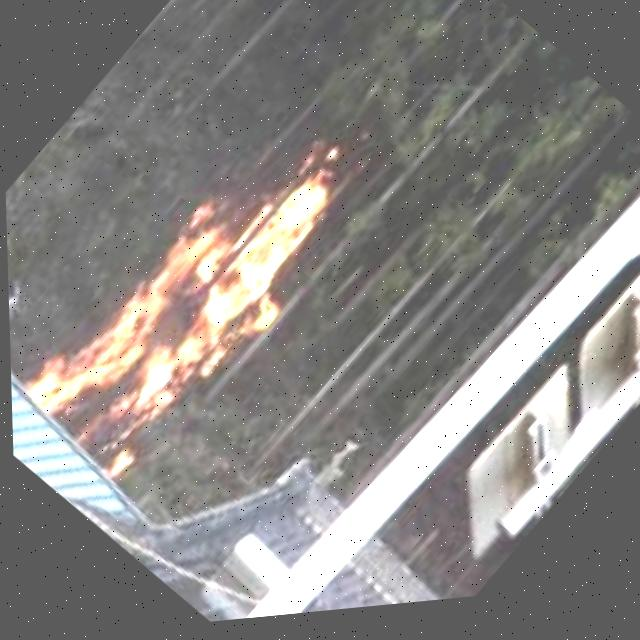Fire: (2, 70, 407, 507)
